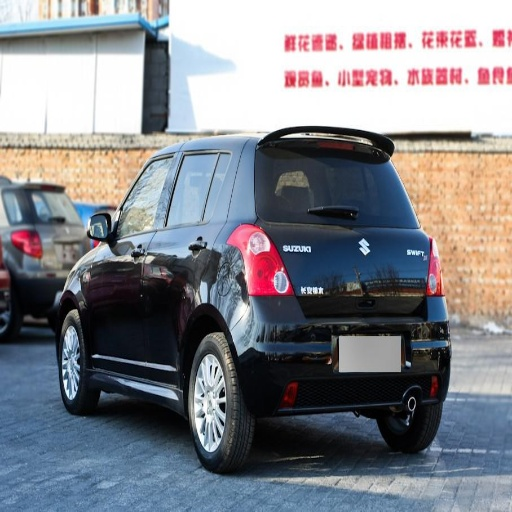back_bumper: (244, 297, 451, 412)
back_glass: (256, 140, 416, 225)
back_left_door: (145, 154, 219, 385)
trunk: (275, 228, 430, 332)
